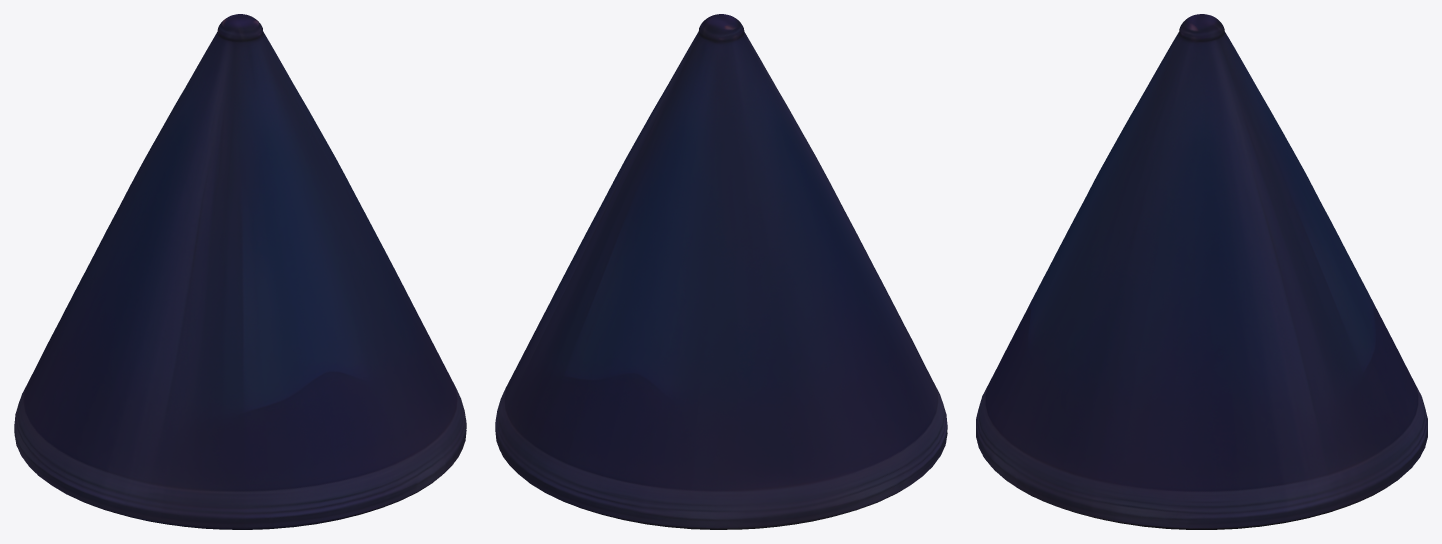
3 views of the same model, side by side, from view 1: azimuth 30°, elevation 25°; view 2: azimuth 150°, elevation 25°; view 3: azimuth 270°, elevation 25° (orthographic).
Parts seen in each view (by area): view 1: model; view 2: model; view 3: model.
Boxes of the visible parts, box(x1,y1,x2,y2) form: model: box(14, 14, 466, 529); model: box(495, 14, 947, 529); model: box(976, 14, 1427, 529).
Size of the model in its own units: 1.69 by 1.9 by 1.68.
1 material, 1 textured.
